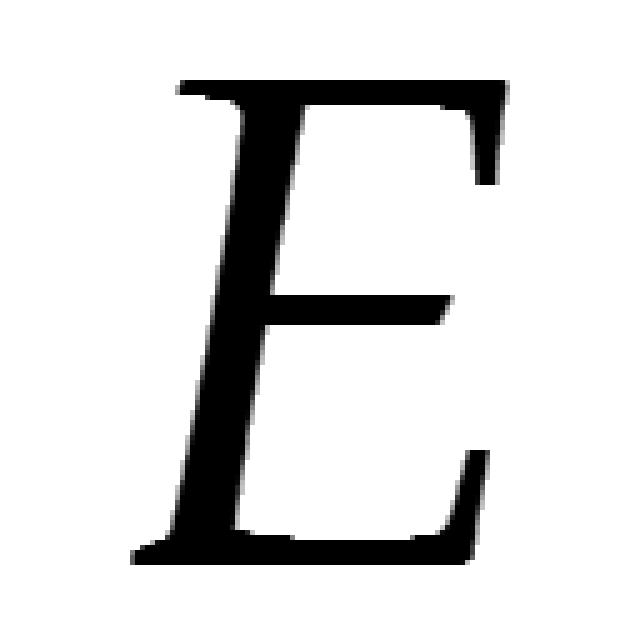E: (130, 80, 505, 565)
